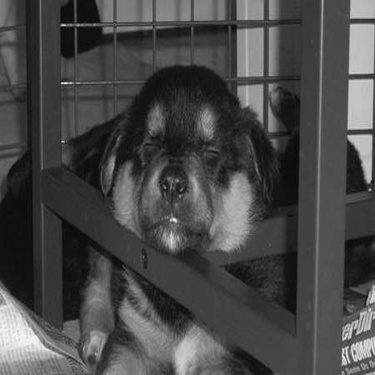dog: (76, 57, 371, 372), (1, 106, 131, 328), (2, 2, 159, 185)
